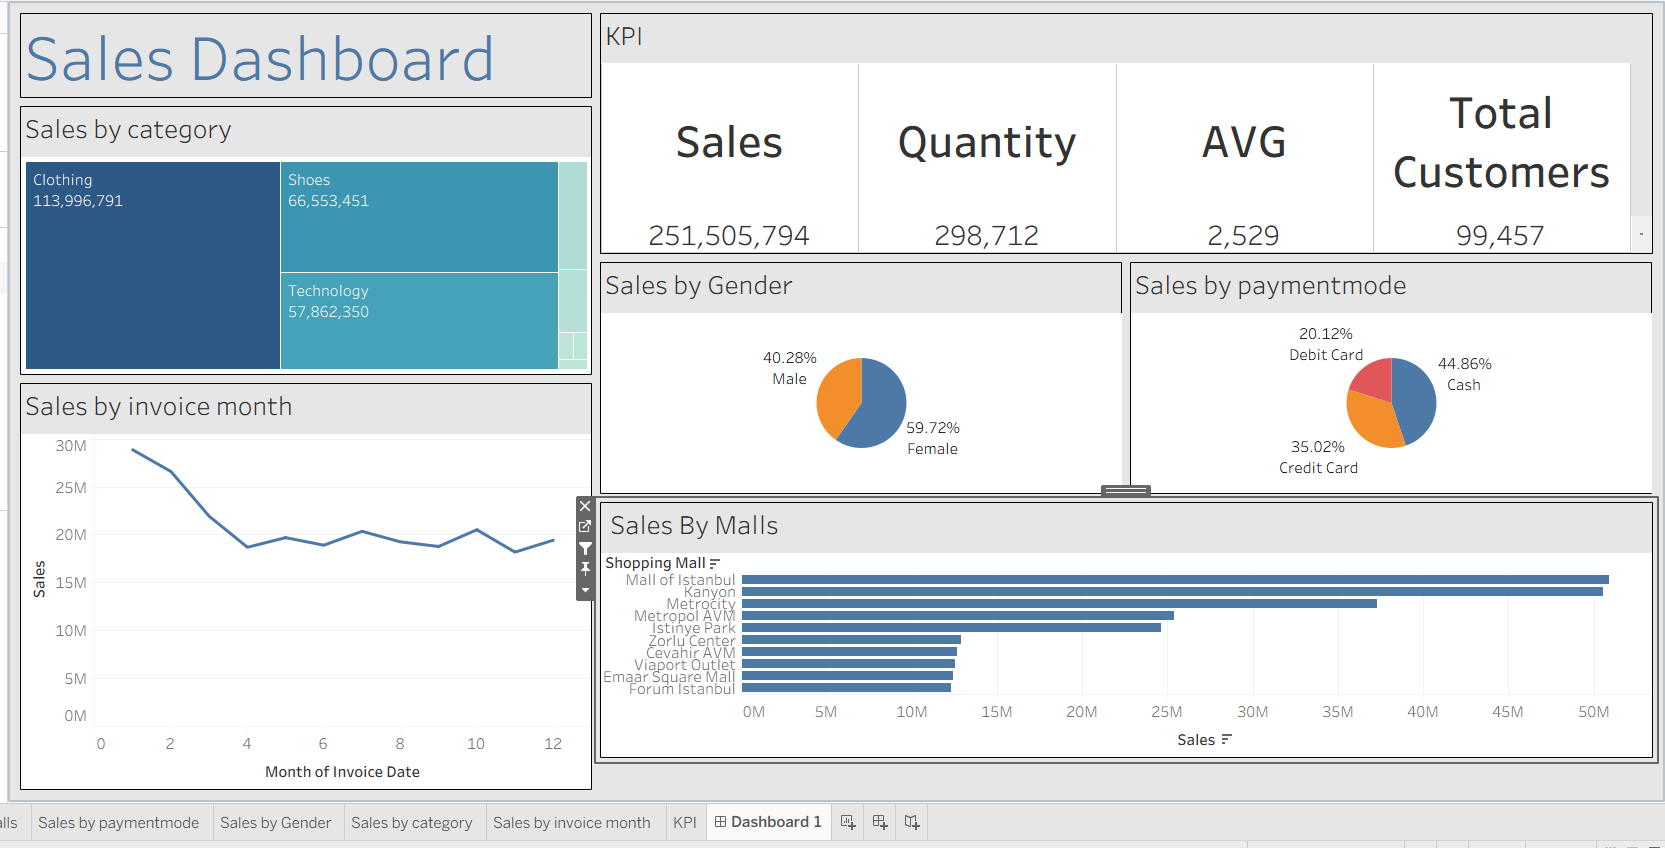

This screenshot's page, from the dashboard's own definition file:
{"tool":"tableau","page":{"name":"Dashboard 1","canvas":[1000,1000],"units":"permille","ordinal":0},"visuals":[{"type":"text","box":[4.8,10,360.1,116.1]},{"type":"worksheet","title":"KPI","mark":"Automatic","box":[364.8,10,630.4,310.9]},{"type":"worksheet","title":"Sales by category","mark":"Automatic","box":[4.8,126.1,360.1,345.8]},{"type":"worksheet","title":"Sales by Gender","mark":"Pie","box":[364.8,320.9,315.2,299.6]},{"type":"worksheet","title":"Sales by paymentmode","mark":"Pie","box":[680,320.9,315.2,299.6]},{"type":"worksheet","title":"Sales by invoice month","mark":"Automatic","rows":["Calculation_1211136792702976"],"cols":["invoice_date"],"box":[4.8,471.9,360.1,518.1]},{"type":"worksheet","title":" Sales By Malls","mark":"Automatic","rows":["shopping_mall"],"cols":["Calculation_1211136792702976"],"box":[364.8,620.5,630.4,329.6]}]}

Visuals, with their boxes on the dashboard's canvas, which has no fixed pixel size, in thousandths of its width and height (x1, y1, x2, y2). These are canvas units, not pixel positions in the 1665x848 screenshot, which may show the page scaled, cropped or inside an application window:
text: box(5, 10, 365, 126)
"KPI" worksheet: box(365, 10, 995, 321)
"Sales by category" worksheet: box(5, 126, 365, 472)
"Sales by Gender" worksheet (Pie marks): box(365, 321, 680, 620)
"Sales by paymentmode" worksheet (Pie marks): box(680, 321, 995, 620)
"Sales by invoice month" worksheet: box(5, 472, 365, 990)
" Sales By Malls" worksheet: box(365, 620, 995, 950)
